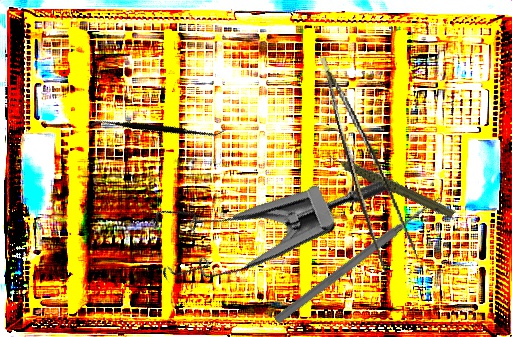Handpiece: (324, 124, 457, 242)
Pusher: (272, 192, 444, 327)
Spatula Surgical: (89, 69, 227, 185)
Speculum: (131, 96, 389, 326)
Tissue Forceps: (319, 47, 420, 276)
